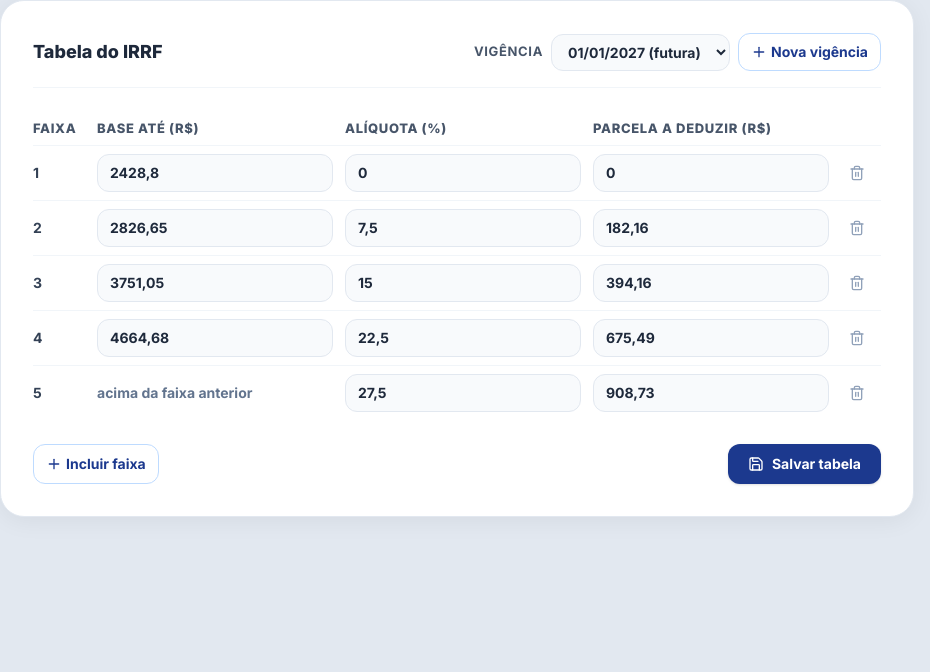
IrrfFaixasEditor › incluir faixa entra antes da última (acima de)
The image size is (930, 672).
Click the button "Incluir faixa": x=96, y=464 [33,444,159,484]
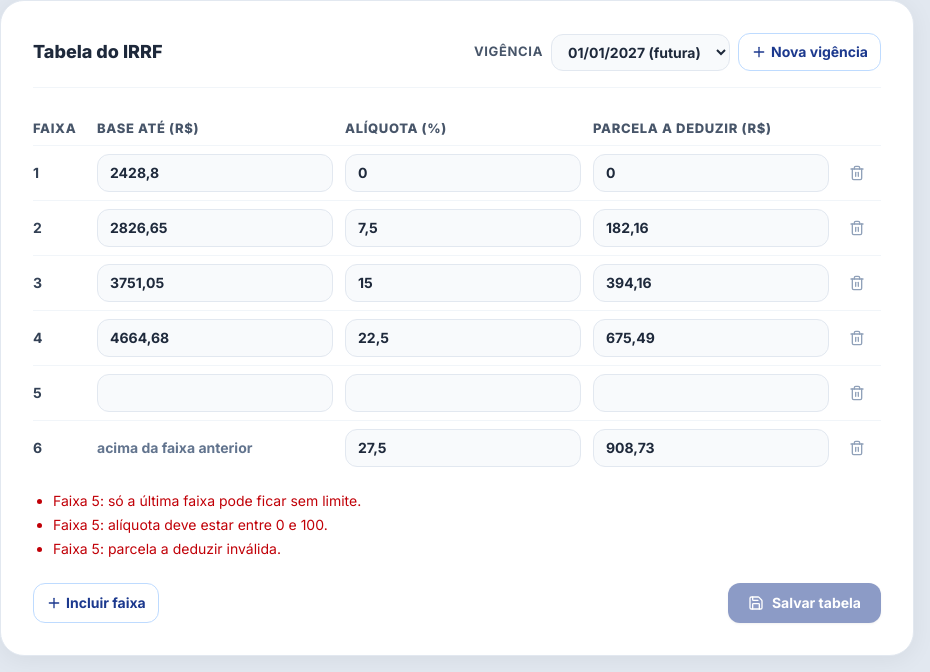
Result: the field named "Limite da faixa 5" is empty at [97,374,333,412]
Result: the field named "Alíquota da faixa 6" holds "27,5" at [345,429,581,467]
